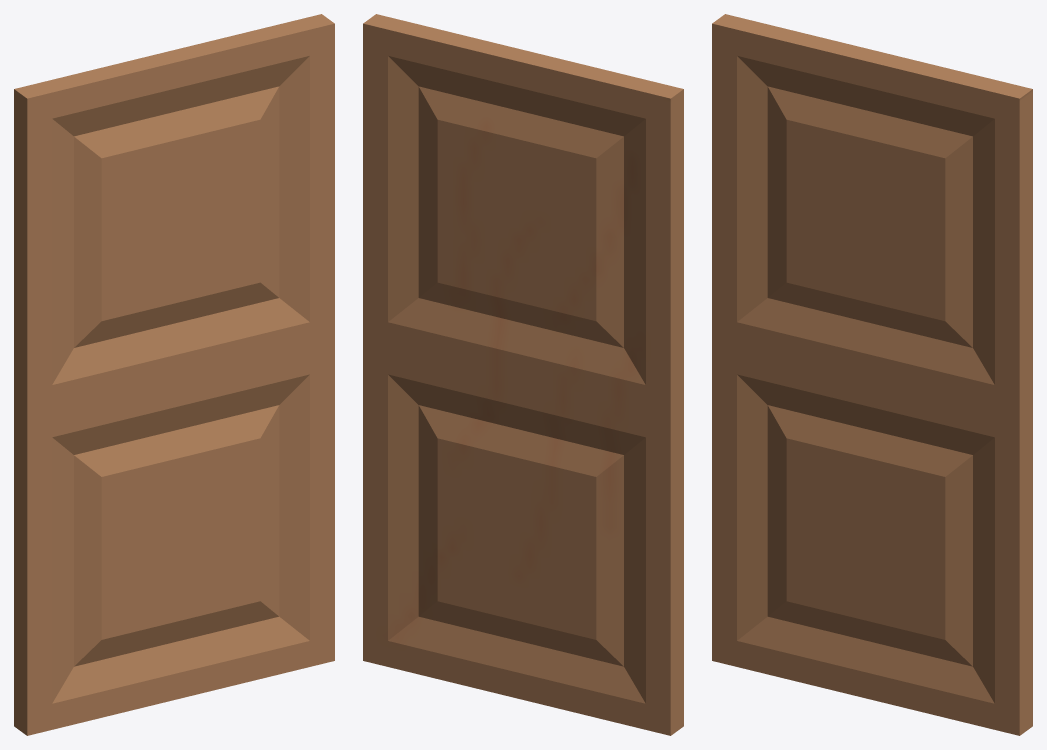
The model's file is pintu.fbx.
3 views of the same model, side by side, from view 1: azimuth 30°, elevation 25°; view 2: azimuth 150°, elevation 25°; view 3: azimuth 330°, elevation 25° (orthographic).
Visible parts, largest first — view 1: Plane.090; view 2: Plane.090; view 3: Plane.090.
Boxes of the visible parts, bbox=[...] form: Plane.090: bbox=[14, 14, 334, 735]; Plane.090: bbox=[363, 14, 683, 735]; Plane.090: bbox=[712, 14, 1032, 735].
Size of the model in its own units: 123 by 244 by 9.1.
1 material, 1 textured.
